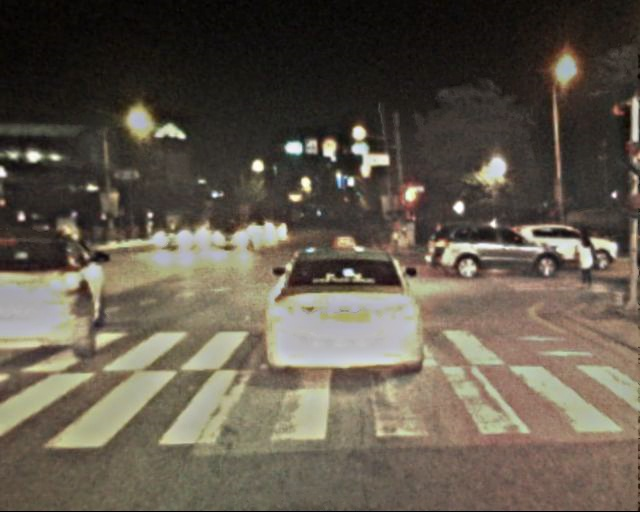person: (570, 230, 597, 297)
